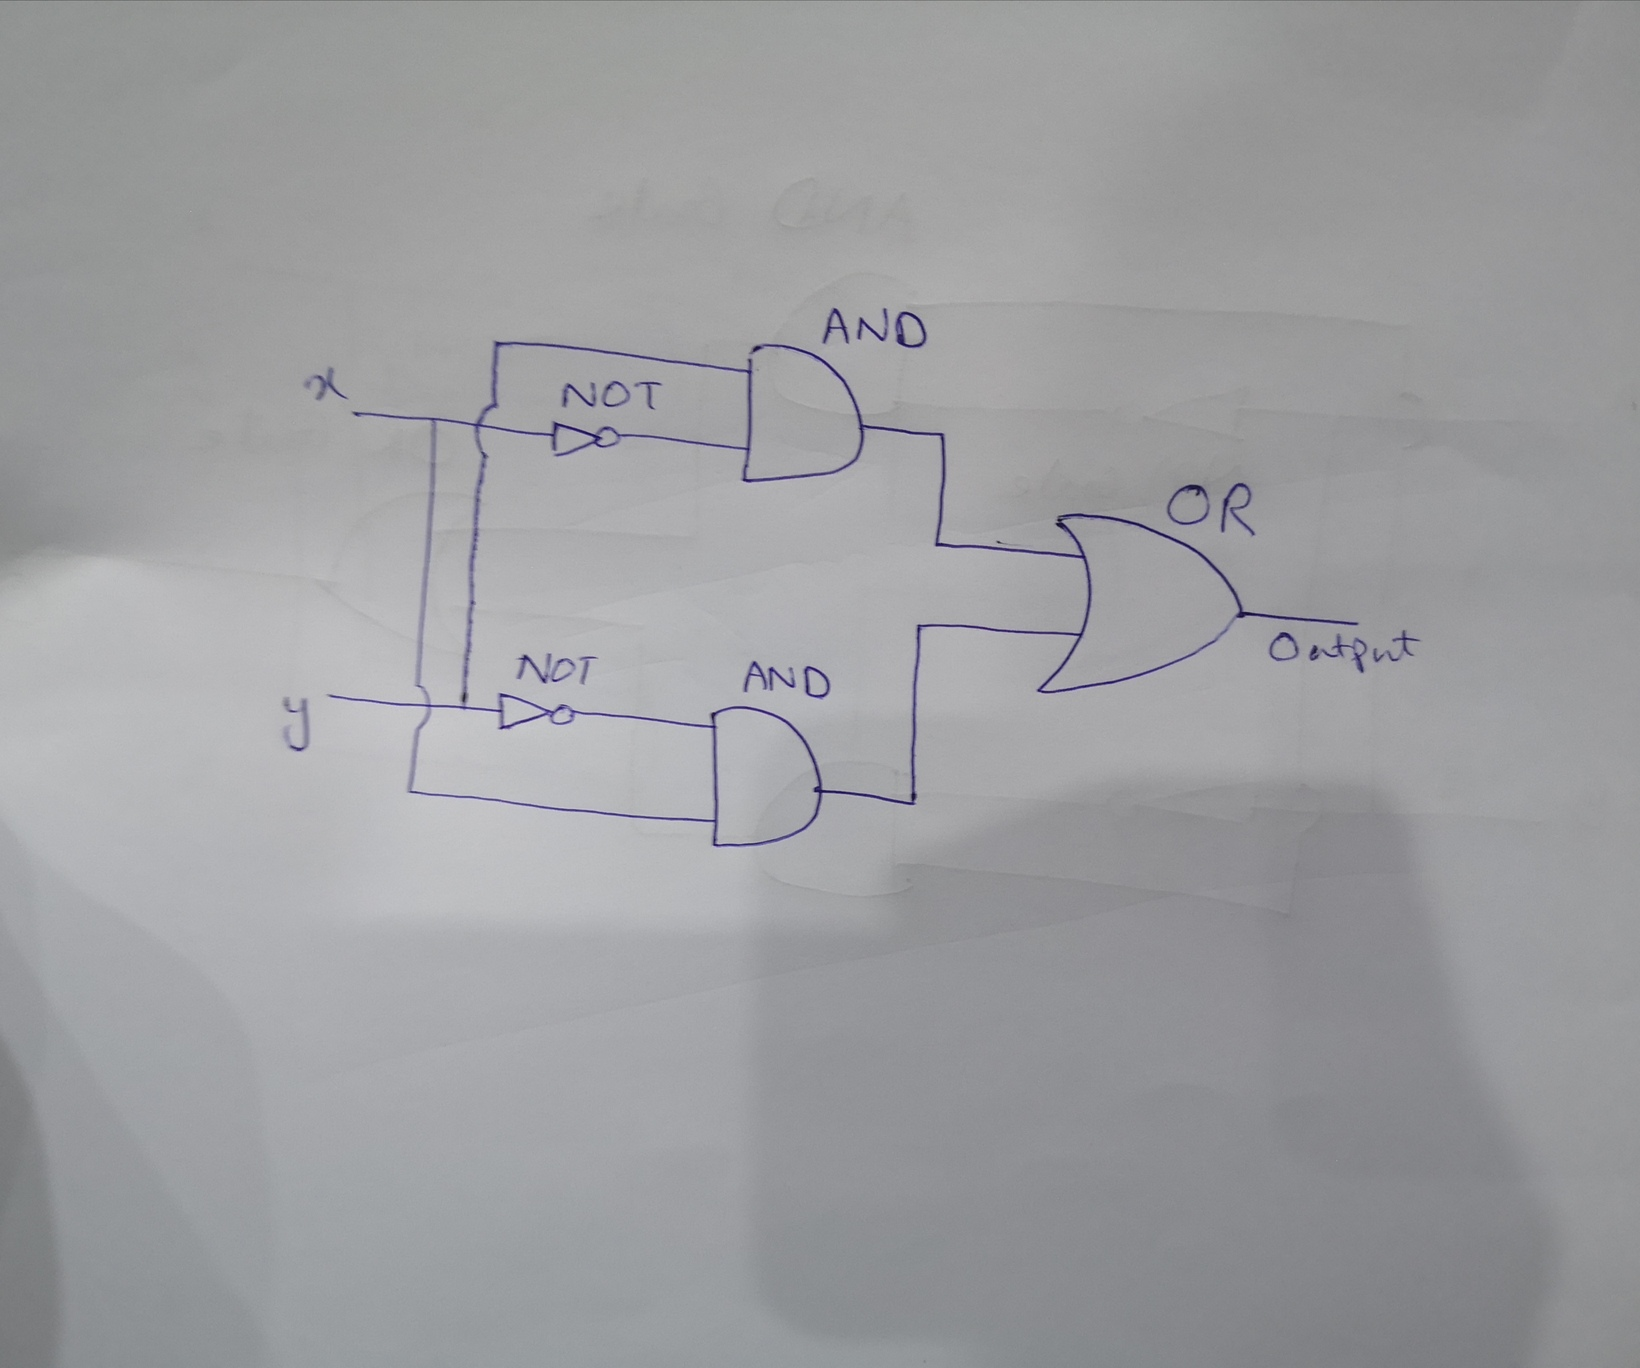and: (737, 341, 870, 493), (701, 702, 828, 852)
crossover: (467, 399, 504, 462), (403, 679, 439, 737)
junction: (924, 531, 953, 557), (928, 421, 955, 446), (899, 788, 924, 813), (909, 616, 930, 636), (399, 779, 421, 800), (488, 332, 507, 353), (452, 698, 473, 715), (422, 411, 440, 426)
not: (489, 689, 582, 740), (541, 414, 627, 465)
or: (1032, 506, 1249, 698)
terminal: (339, 405, 365, 422), (1349, 613, 1370, 632), (323, 687, 341, 704)
text: (1264, 625, 1422, 681), (816, 302, 933, 354), (1167, 480, 1264, 538), (556, 371, 666, 417), (737, 655, 838, 704), (505, 644, 599, 689), (277, 692, 312, 755), (302, 367, 347, 402)
